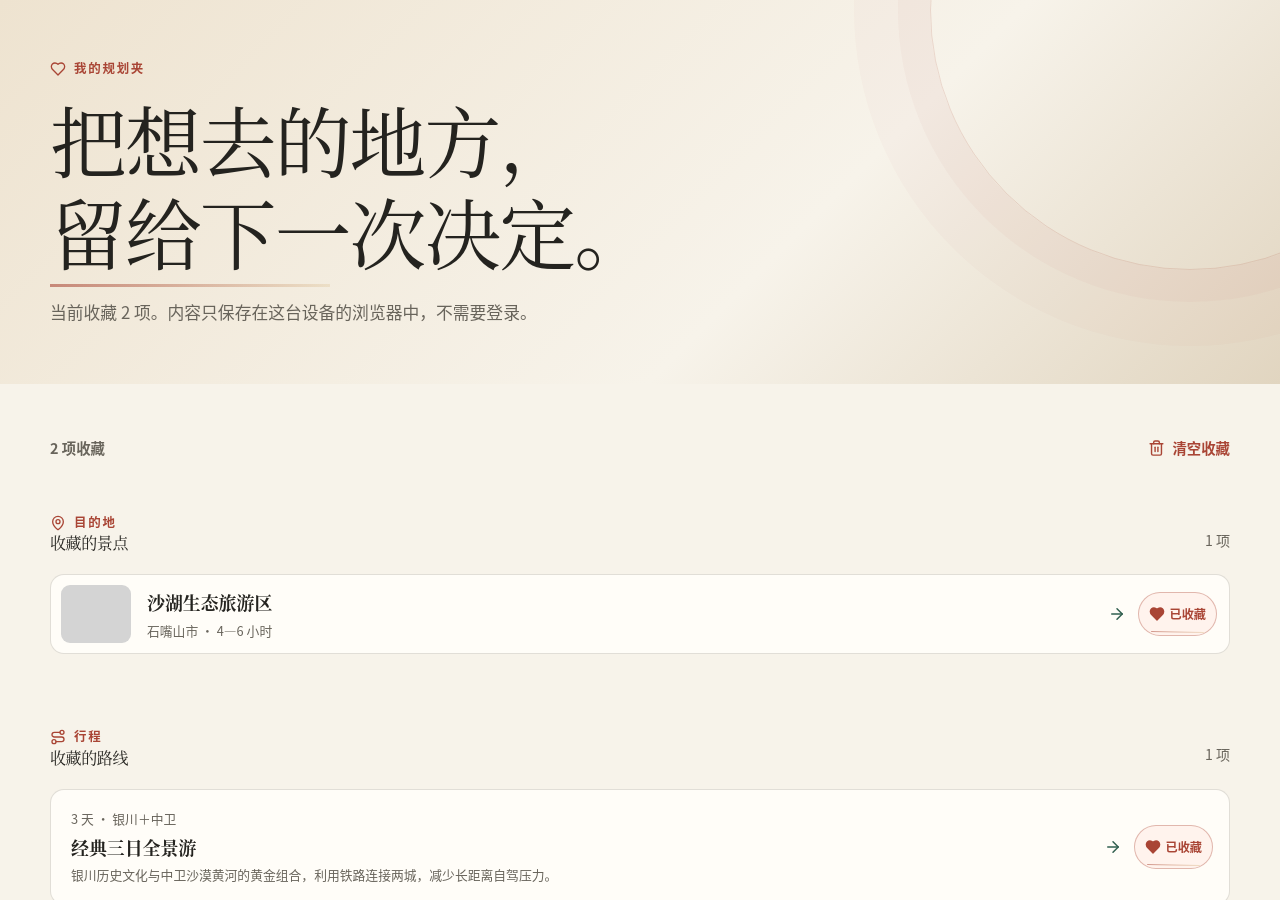
Favorites › 可直接从列表移除单个景点或路线
This screenshot has width=1280, height=900.
What coordinates should you click on to do the following:
click the button with aria-label "取消收藏沙湖生态旅游区"
I would click on:
 (1177, 614)
Its box is [1138,592,1217,636].
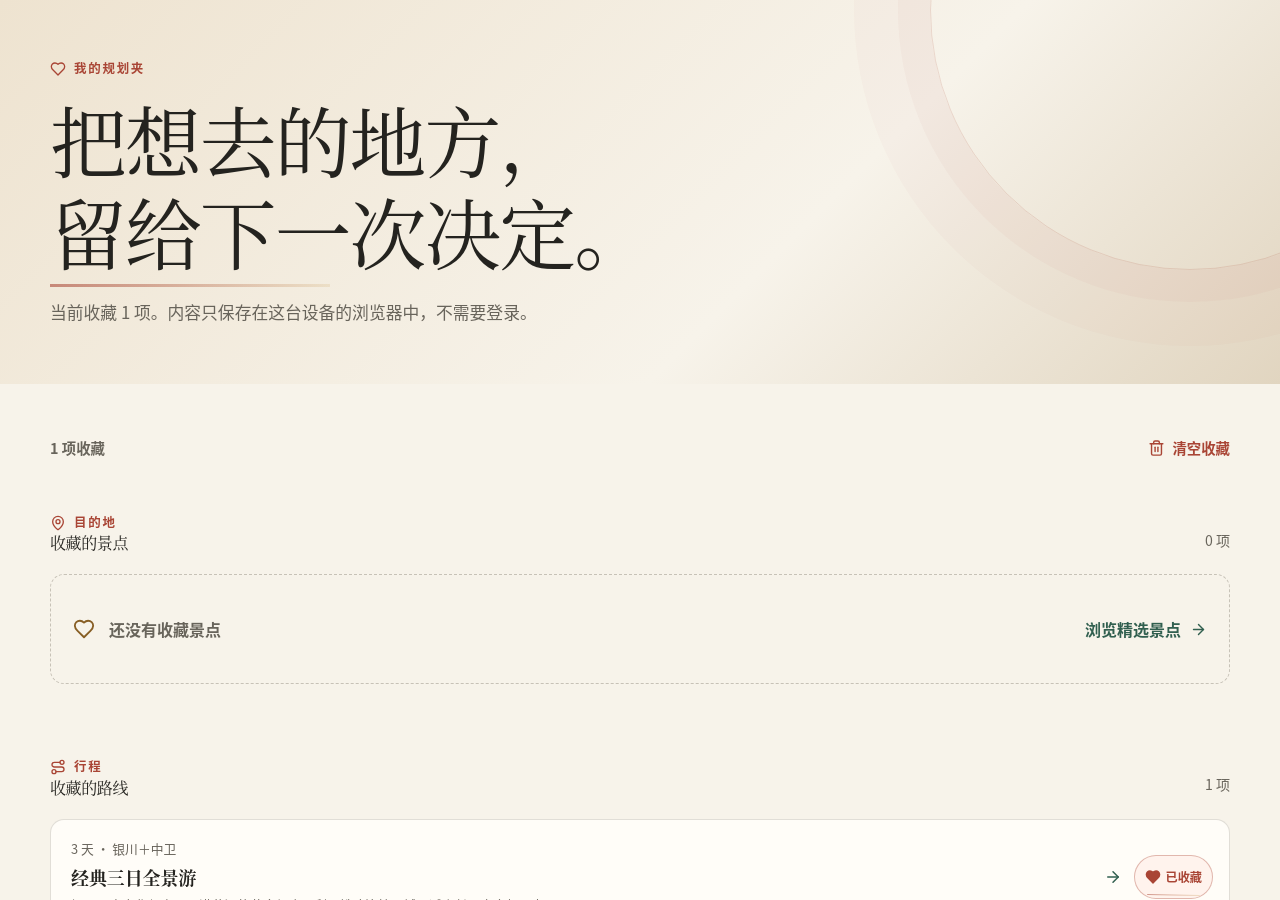
Result: the link "沙湖生态旅游区" is gone
Result: the text "还没有收藏景点" is shown at [109,616,221,643]
What coordinates should you click on to do the following:
click the button with aria-label "取消收藏经典三日全景游"
I would click on:
 (1173, 877)
Its box is [1134,855,1213,899].
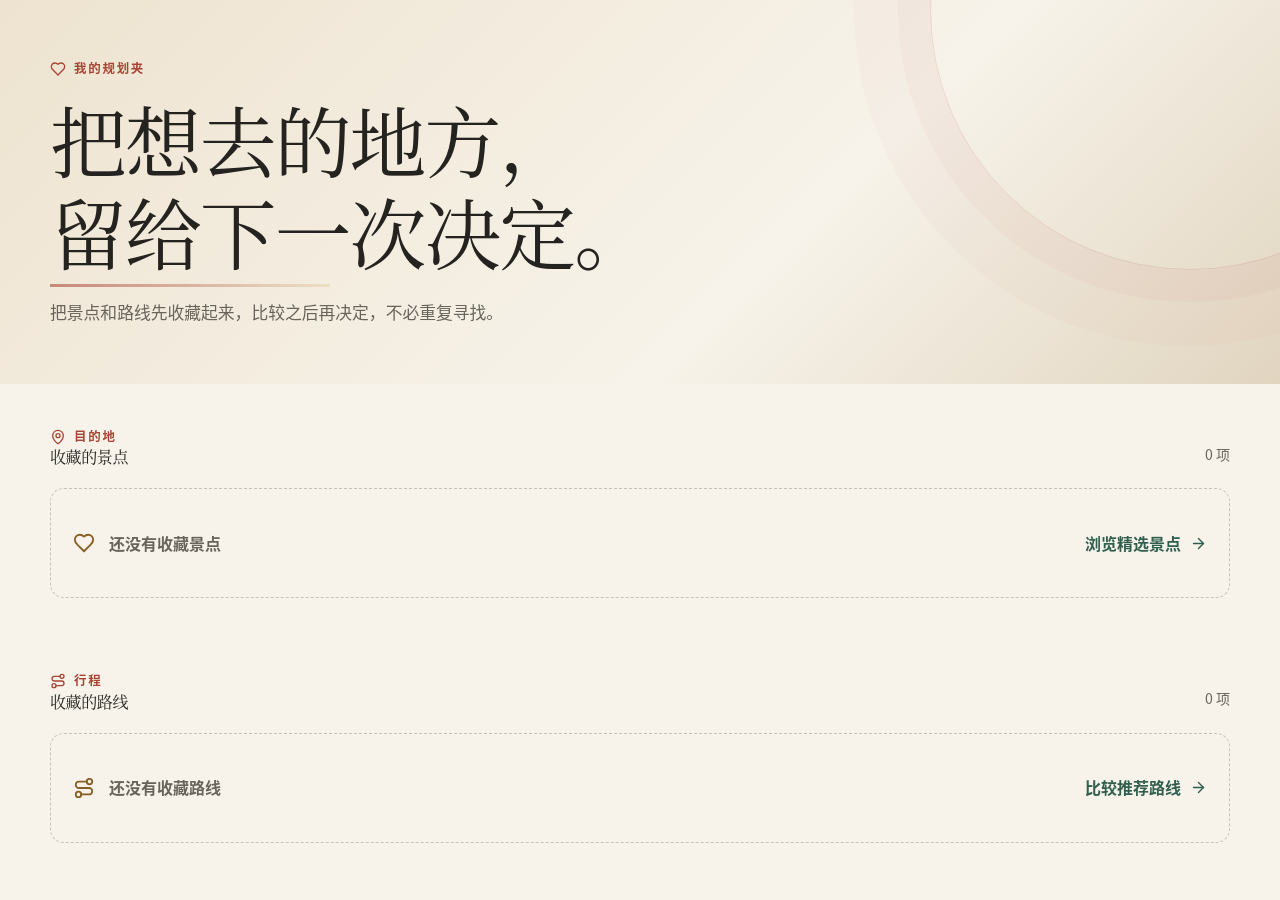
Result: the text "还没有收藏路线" is shown at [109,774,221,802]
Result: the text "0 项" is shown 2 times at [1205,443,1230,466]; [1205,687,1230,711]
